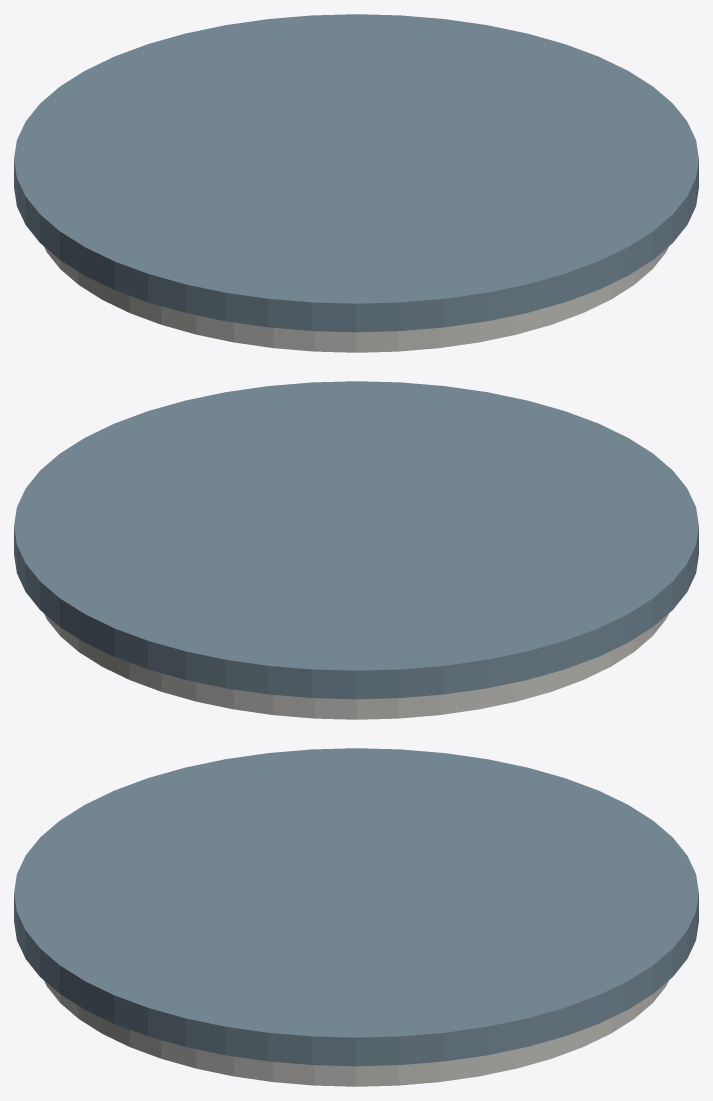
The model's file is 29_L78_LowKDielectricGasShowerhead.glb.
3 views of the same model, one above another, from view 1: azimuth 30°, elevation 25°; view 2: azimuth 150°, elevation 25°; view 3: azimuth 270°, elevation 25° (orthographic).
Visible parts, largest first — view 1: LowKDielectricGasShowerhead_Node_0001, LowKDielectricGasShowerhead_Node_0000; view 2: LowKDielectricGasShowerhead_Node_0001, LowKDielectricGasShowerhead_Node_0000; view 3: LowKDielectricGasShowerhead_Node_0001, LowKDielectricGasShowerhead_Node_0000.
Boxes of the visible parts, box(x1,y1,x2,y2) form: LowKDielectricGasShowerhead_Node_0001: box(14, 14, 698, 332); LowKDielectricGasShowerhead_Node_0000: box(44, 246, 668, 352); LowKDielectricGasShowerhead_Node_0001: box(14, 381, 698, 699); LowKDielectricGasShowerhead_Node_0000: box(44, 613, 668, 719); LowKDielectricGasShowerhead_Node_0001: box(14, 748, 698, 1066); LowKDielectricGasShowerhead_Node_0000: box(44, 980, 668, 1086).
Size of the model in its own units: 2.82 by 0.311 by 2.82.
